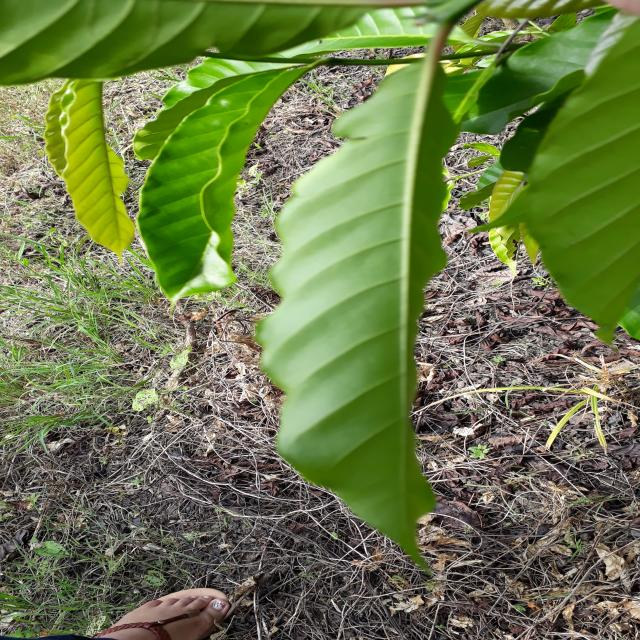Sanas: (256, 43, 459, 574)
